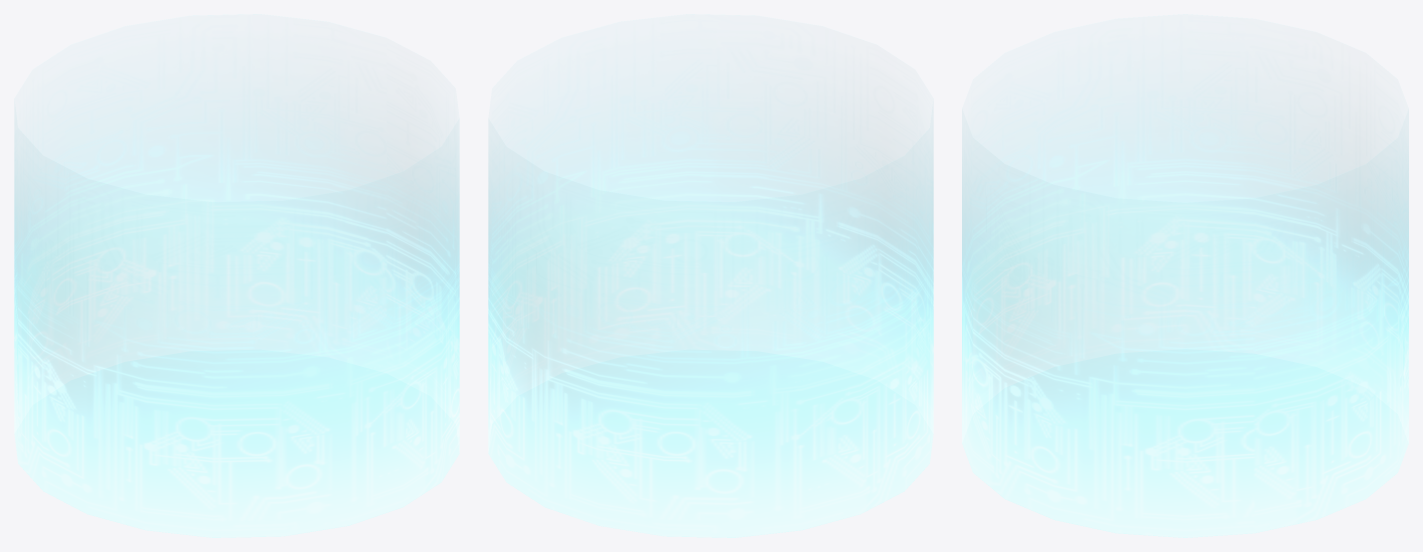
3 renders of one model, left to right at view 1: azimuth 30°, elevation 25°; view 2: azimuth 150°, elevation 25°; view 3: azimuth 270°, elevation 25°, orthographic.
Visible parts, largest first — view 1: Area_Highlight_2; view 2: Area_Highlight_2; view 3: Area_Highlight_2.
Boxes of the visible parts, left/top/right/bottom form: Area_Highlight_2: left=14, top=130, right=459, bottom=537; Area_Highlight_2: left=488, top=133, right=933, bottom=537; Area_Highlight_2: left=962, top=133, right=1408, bottom=537.
Bounding box in the file's own units: 0.1791 × 0.1483 × 0.1791.
Materials: 1 (1 with a texture image).
